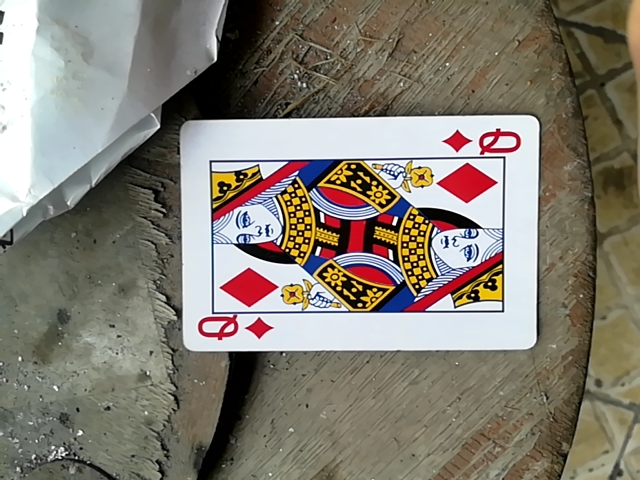fk q: (170, 113, 540, 357)
